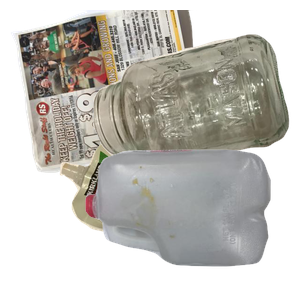glass: (91, 32, 300, 189)
paper: (10, 10, 210, 175)
plastic: (83, 147, 300, 300)
trash: (57, 137, 257, 300)
